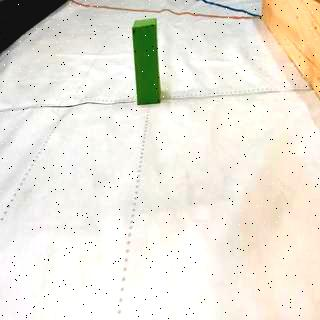greenbox: (133, 21, 160, 106)
